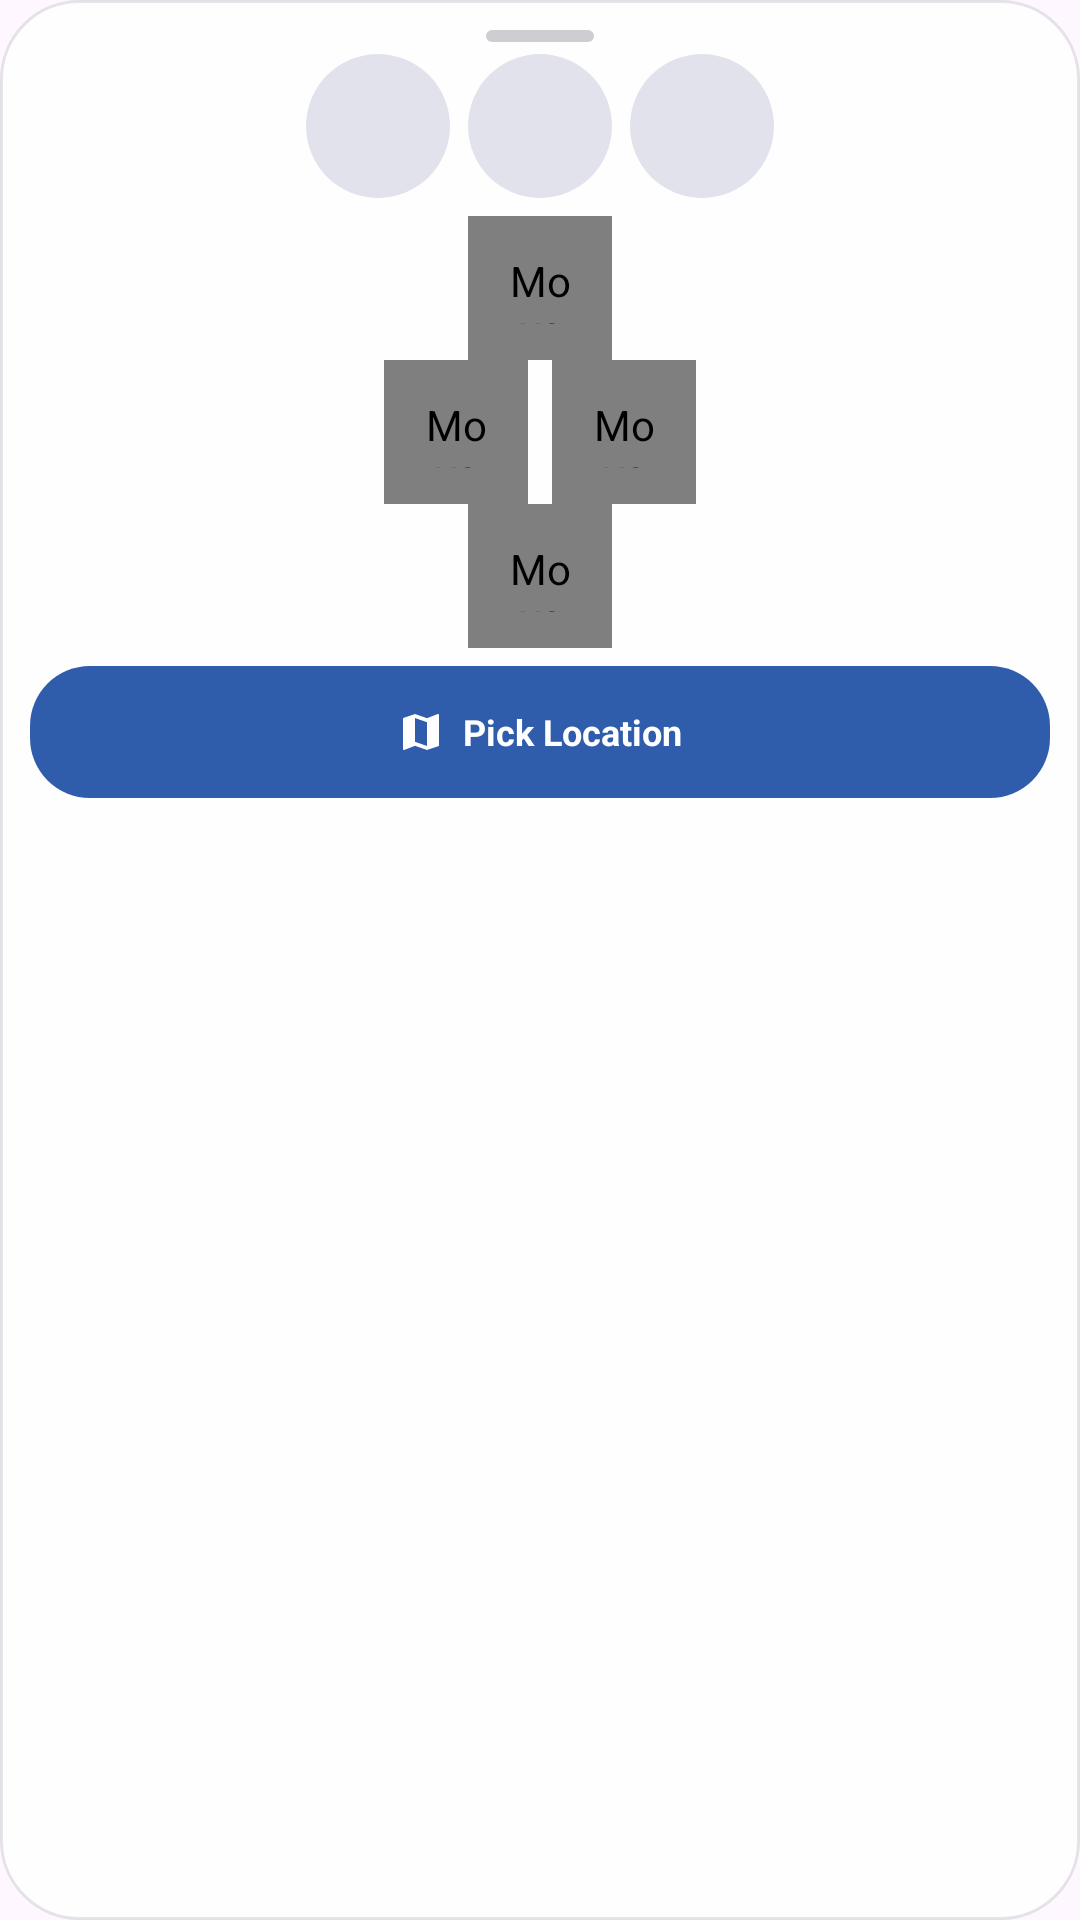

Screen size 1080px x 1920px. Icon name, then its box in pixels as (x1, y1, x2, y2):
map: (403, 714, 439, 750)
